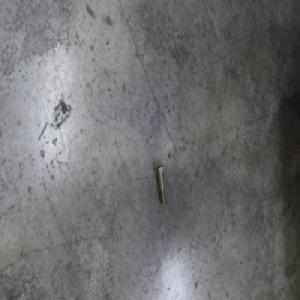Bolt: (155, 165, 167, 207)
